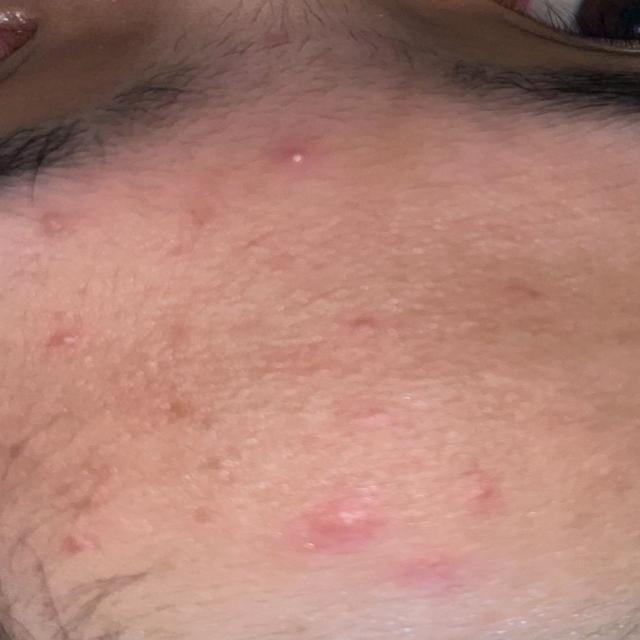papule: (269, 450, 520, 621)
pustule: (33, 315, 102, 369), (267, 136, 330, 192)
